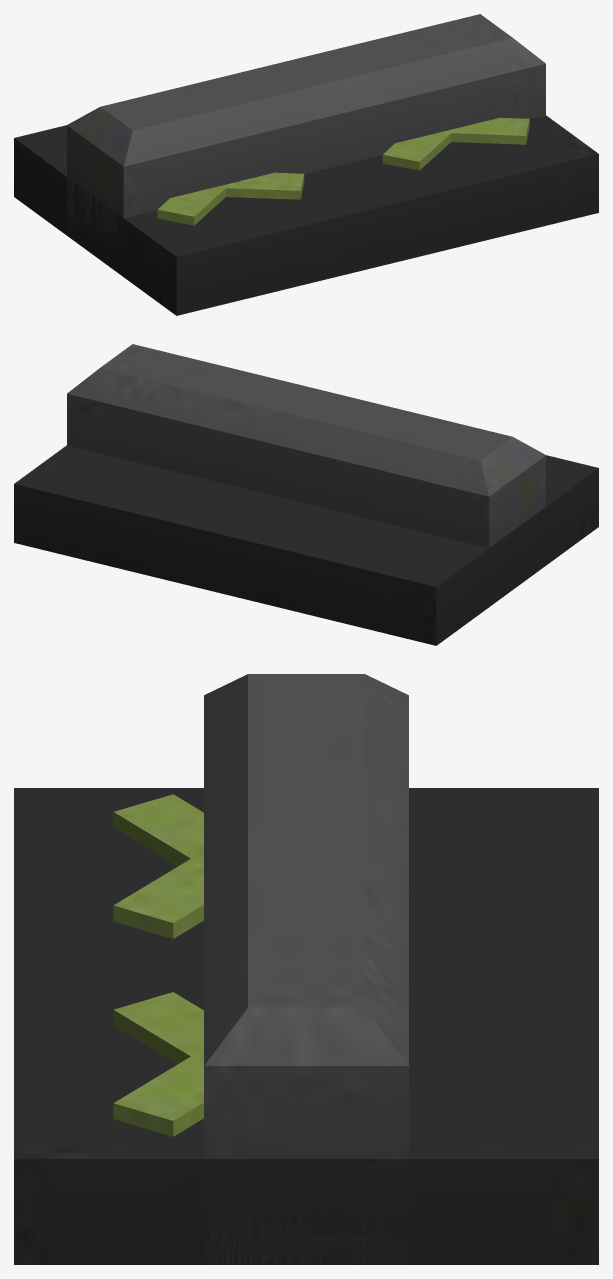
File: turbo-splitter.glb
3 renders of one model, top to bottom at view 1: azimuth 30°, elevation 25°; view 2: azimuth 150°, elevation 25°; view 3: azimuth 270°, elevation 25°, orthographic. The views are drawn at different scales.
Parts seen in each view (by area): view 1: turbo-splitter; view 2: turbo-splitter; view 3: turbo-splitter.
Part boxes in pixels (x1,y1,x2,y2): turbo-splitter: (14, 14, 598, 315); turbo-splitter: (14, 344, 598, 645); turbo-splitter: (14, 674, 598, 1264).
Size of the model in its own units: 0.3 by 0.09 by 0.2.
1 material, 1 textured.
